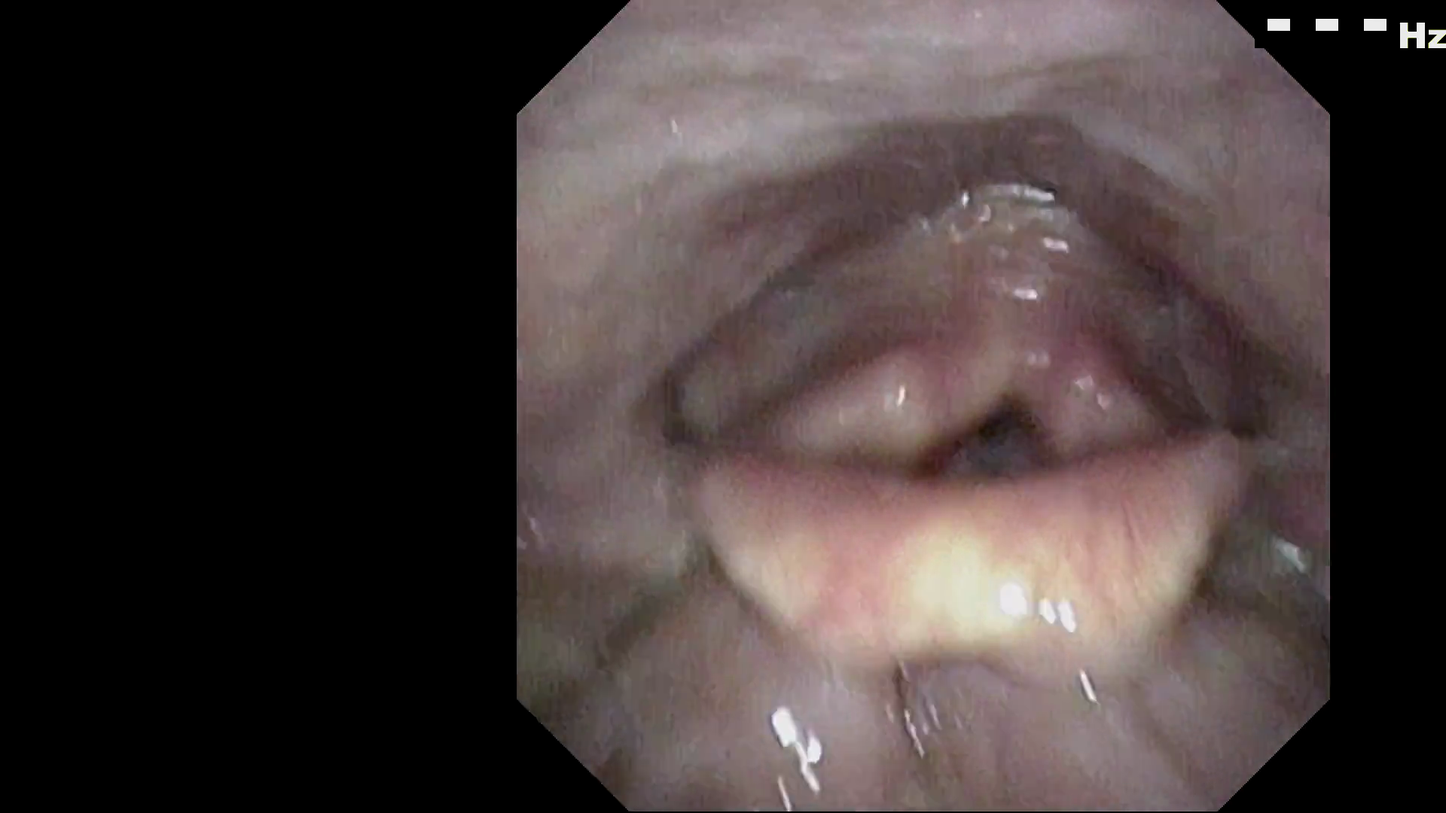epiglottis: (655, 273, 1234, 453)
trachea: (962, 390, 1056, 444)
